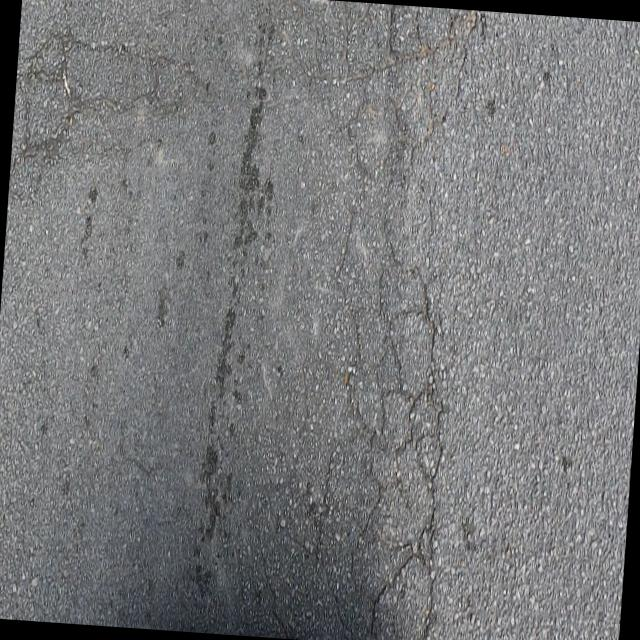Retak-Buaya: (237, 0, 486, 640), (12, 18, 186, 166)
